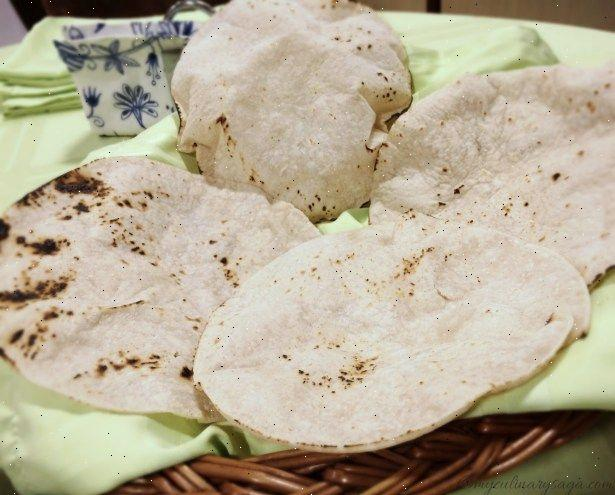roti phulka: (1, 3, 612, 457)
